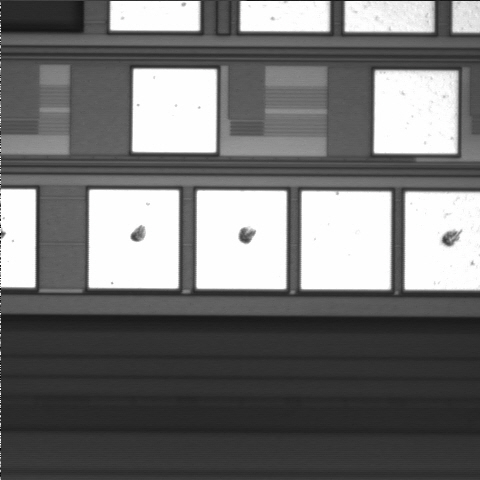pad: (196, 190, 287, 289), (89, 190, 179, 289), (301, 191, 391, 290), (132, 69, 217, 153), (374, 71, 457, 154)
